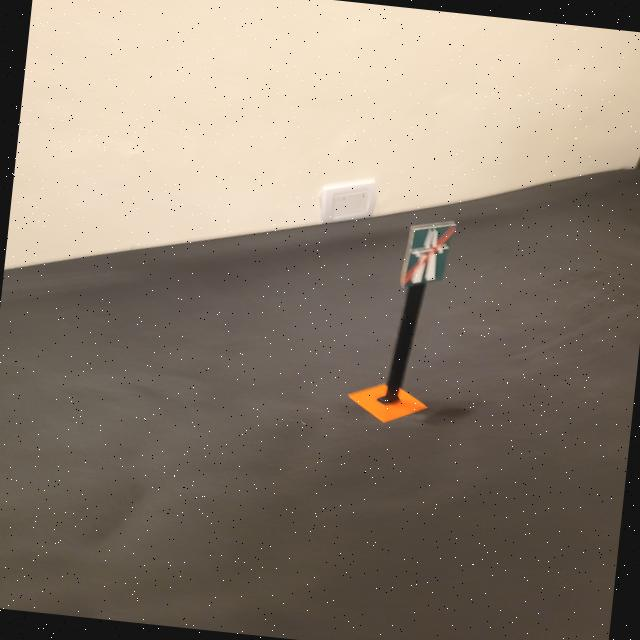highway_exit: (398, 216, 457, 293)
